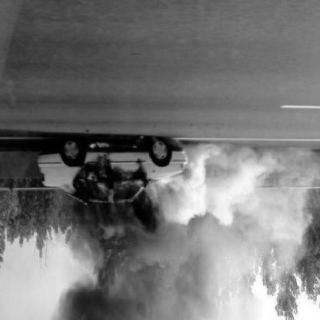Fire: (67, 137, 159, 219)
Smoke: (53, 214, 251, 320), (164, 149, 264, 245)
